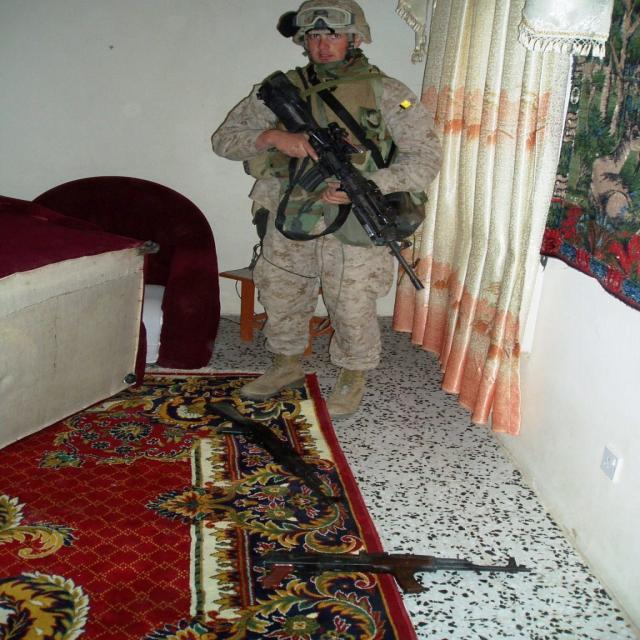weapon: (253, 68, 424, 289), (204, 396, 348, 506), (259, 554, 533, 594)
